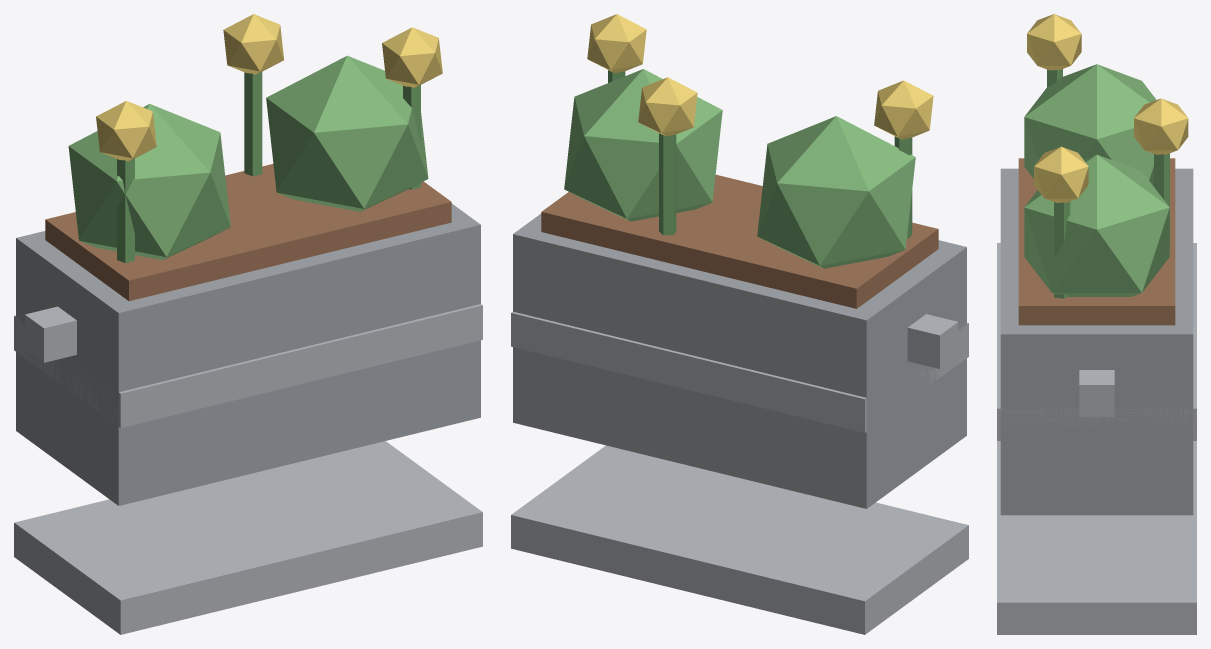
Rendered from street_planter.glb.
3 views of the same model, side by side, from view 1: azimuth 30°, elevation 25°; view 2: azimuth 150°, elevation 25°; view 3: azimuth 270°, elevation 25° (orthographic). The views are drawn at different scales.
Visible parts, largest first — view 1: trough, rim_2, soil, shrub_1, shrub_0, rim_3, flower_2, flower_1, flower_0, rim_0, stem_1, stem_0; view 2: trough, rim_2, soil, shrub_0, shrub_1, rim_3, flower_0, flower_1, flower_2, rim_0, stem_1; view 3: trough, rim_2, shrub_1, shrub_0, soil, rim_3, flower_0, flower_1, flower_2, rim_1, stem_1, stem_2.
Boxes of the visible parts, bbox=[...] form: trough: bbox=[16, 203, 480, 505]; rim_2: bbox=[14, 441, 482, 634]; soil: bbox=[45, 164, 451, 301]; shrub_1: bbox=[266, 55, 428, 211]; shrub_0: bbox=[68, 104, 230, 259]; rim_3: bbox=[14, 304, 482, 427]; flower_2: bbox=[382, 27, 442, 87]; flower_1: bbox=[223, 14, 283, 74]; flower_0: bbox=[96, 101, 156, 161]; rim_0: bbox=[25, 306, 76, 362]; stem_1: bbox=[244, 72, 262, 176]; stem_0: bbox=[117, 158, 134, 263]; trough: bbox=[513, 213, 966, 508]; rim_2: bbox=[511, 445, 968, 634]; soil: bbox=[541, 174, 938, 308]; shrub_0: bbox=[757, 116, 915, 268]; shrub_1: bbox=[564, 69, 722, 221]; rim_3: bbox=[511, 311, 968, 432]; flower_0: bbox=[874, 80, 933, 139]; flower_1: bbox=[638, 77, 697, 136]; flower_2: bbox=[587, 14, 646, 73]; rim_0: bbox=[907, 314, 958, 368]; stem_1: bbox=[659, 133, 676, 235]; trough: bbox=[1000, 168, 1193, 515]; rim_2: bbox=[997, 441, 1196, 634]; shrub_1: bbox=[1024, 154, 1169, 296]; shrub_0: bbox=[1024, 64, 1156, 186]; soil: bbox=[1018, 158, 1175, 325]; rim_3: bbox=[997, 243, 1196, 440]; flower_0: bbox=[1027, 14, 1081, 70]; flower_1: bbox=[1134, 98, 1188, 154]; flower_2: bbox=[1034, 146, 1088, 202]; rim_1: bbox=[1079, 370, 1114, 417]; stem_1: bbox=[1154, 153, 1169, 246]; stem_2: bbox=[1054, 201, 1070, 298].
Size of the model in its own units: 1.3 by 1.46 by 0.56.
